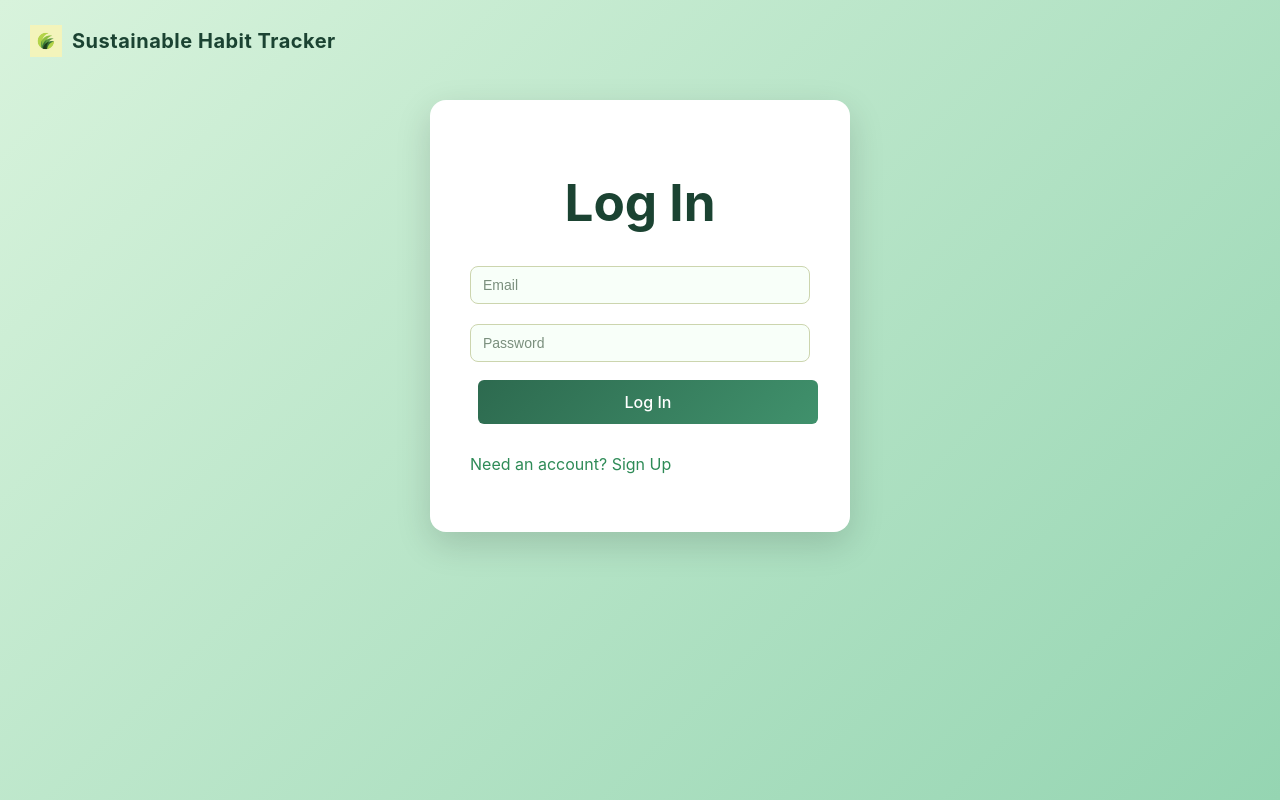
Test: Auth Component UI Integration Tests › AUTH-IT-01: UI switches from Log In to Sign Up
Expected: the heading "Log In" is shown, [564,171,716,233]
Expected: the field with placeholder "Username" is not shown
click the sign up button
What coordinates should you click on to do the following:
click the text "Need an account? Sign Up"
I would click on:
 (571, 464)
Its box is [470,454,671,474].
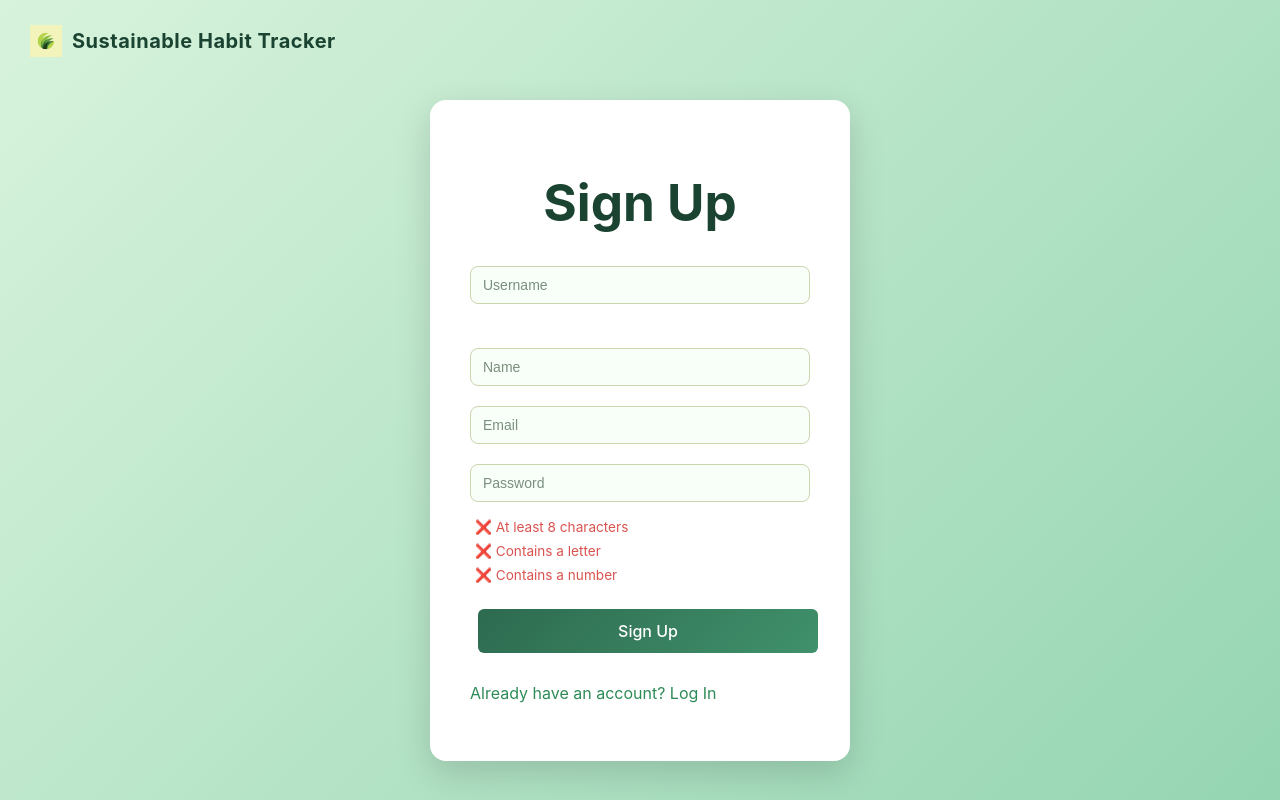
Expected: the heading "Sign Up" is shown, [543,171,737,233]
Expected: the field with placeholder "Username" is shown, [470,266,810,304]
Expected: the text "❌ At least 8 characters" is shown, [475,519,628,535]
